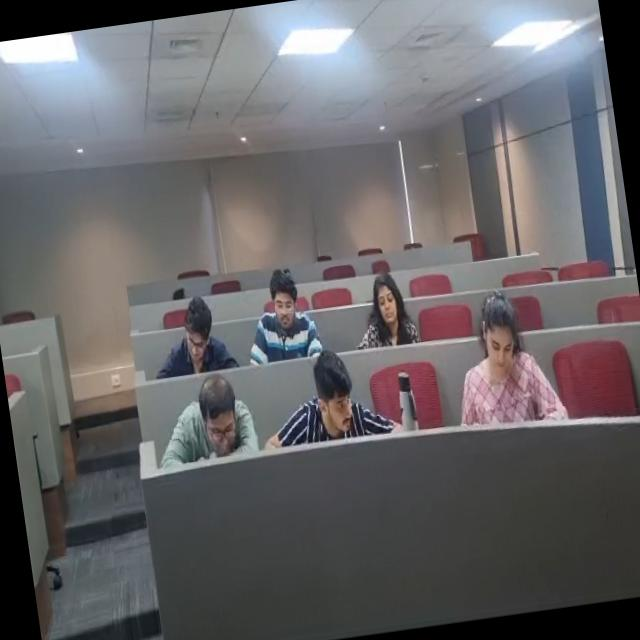cheating: (292, 342, 375, 450), (180, 372, 266, 468)
non-cheating: (468, 278, 542, 402), (246, 242, 322, 346), (163, 278, 240, 376), (356, 256, 422, 341)
